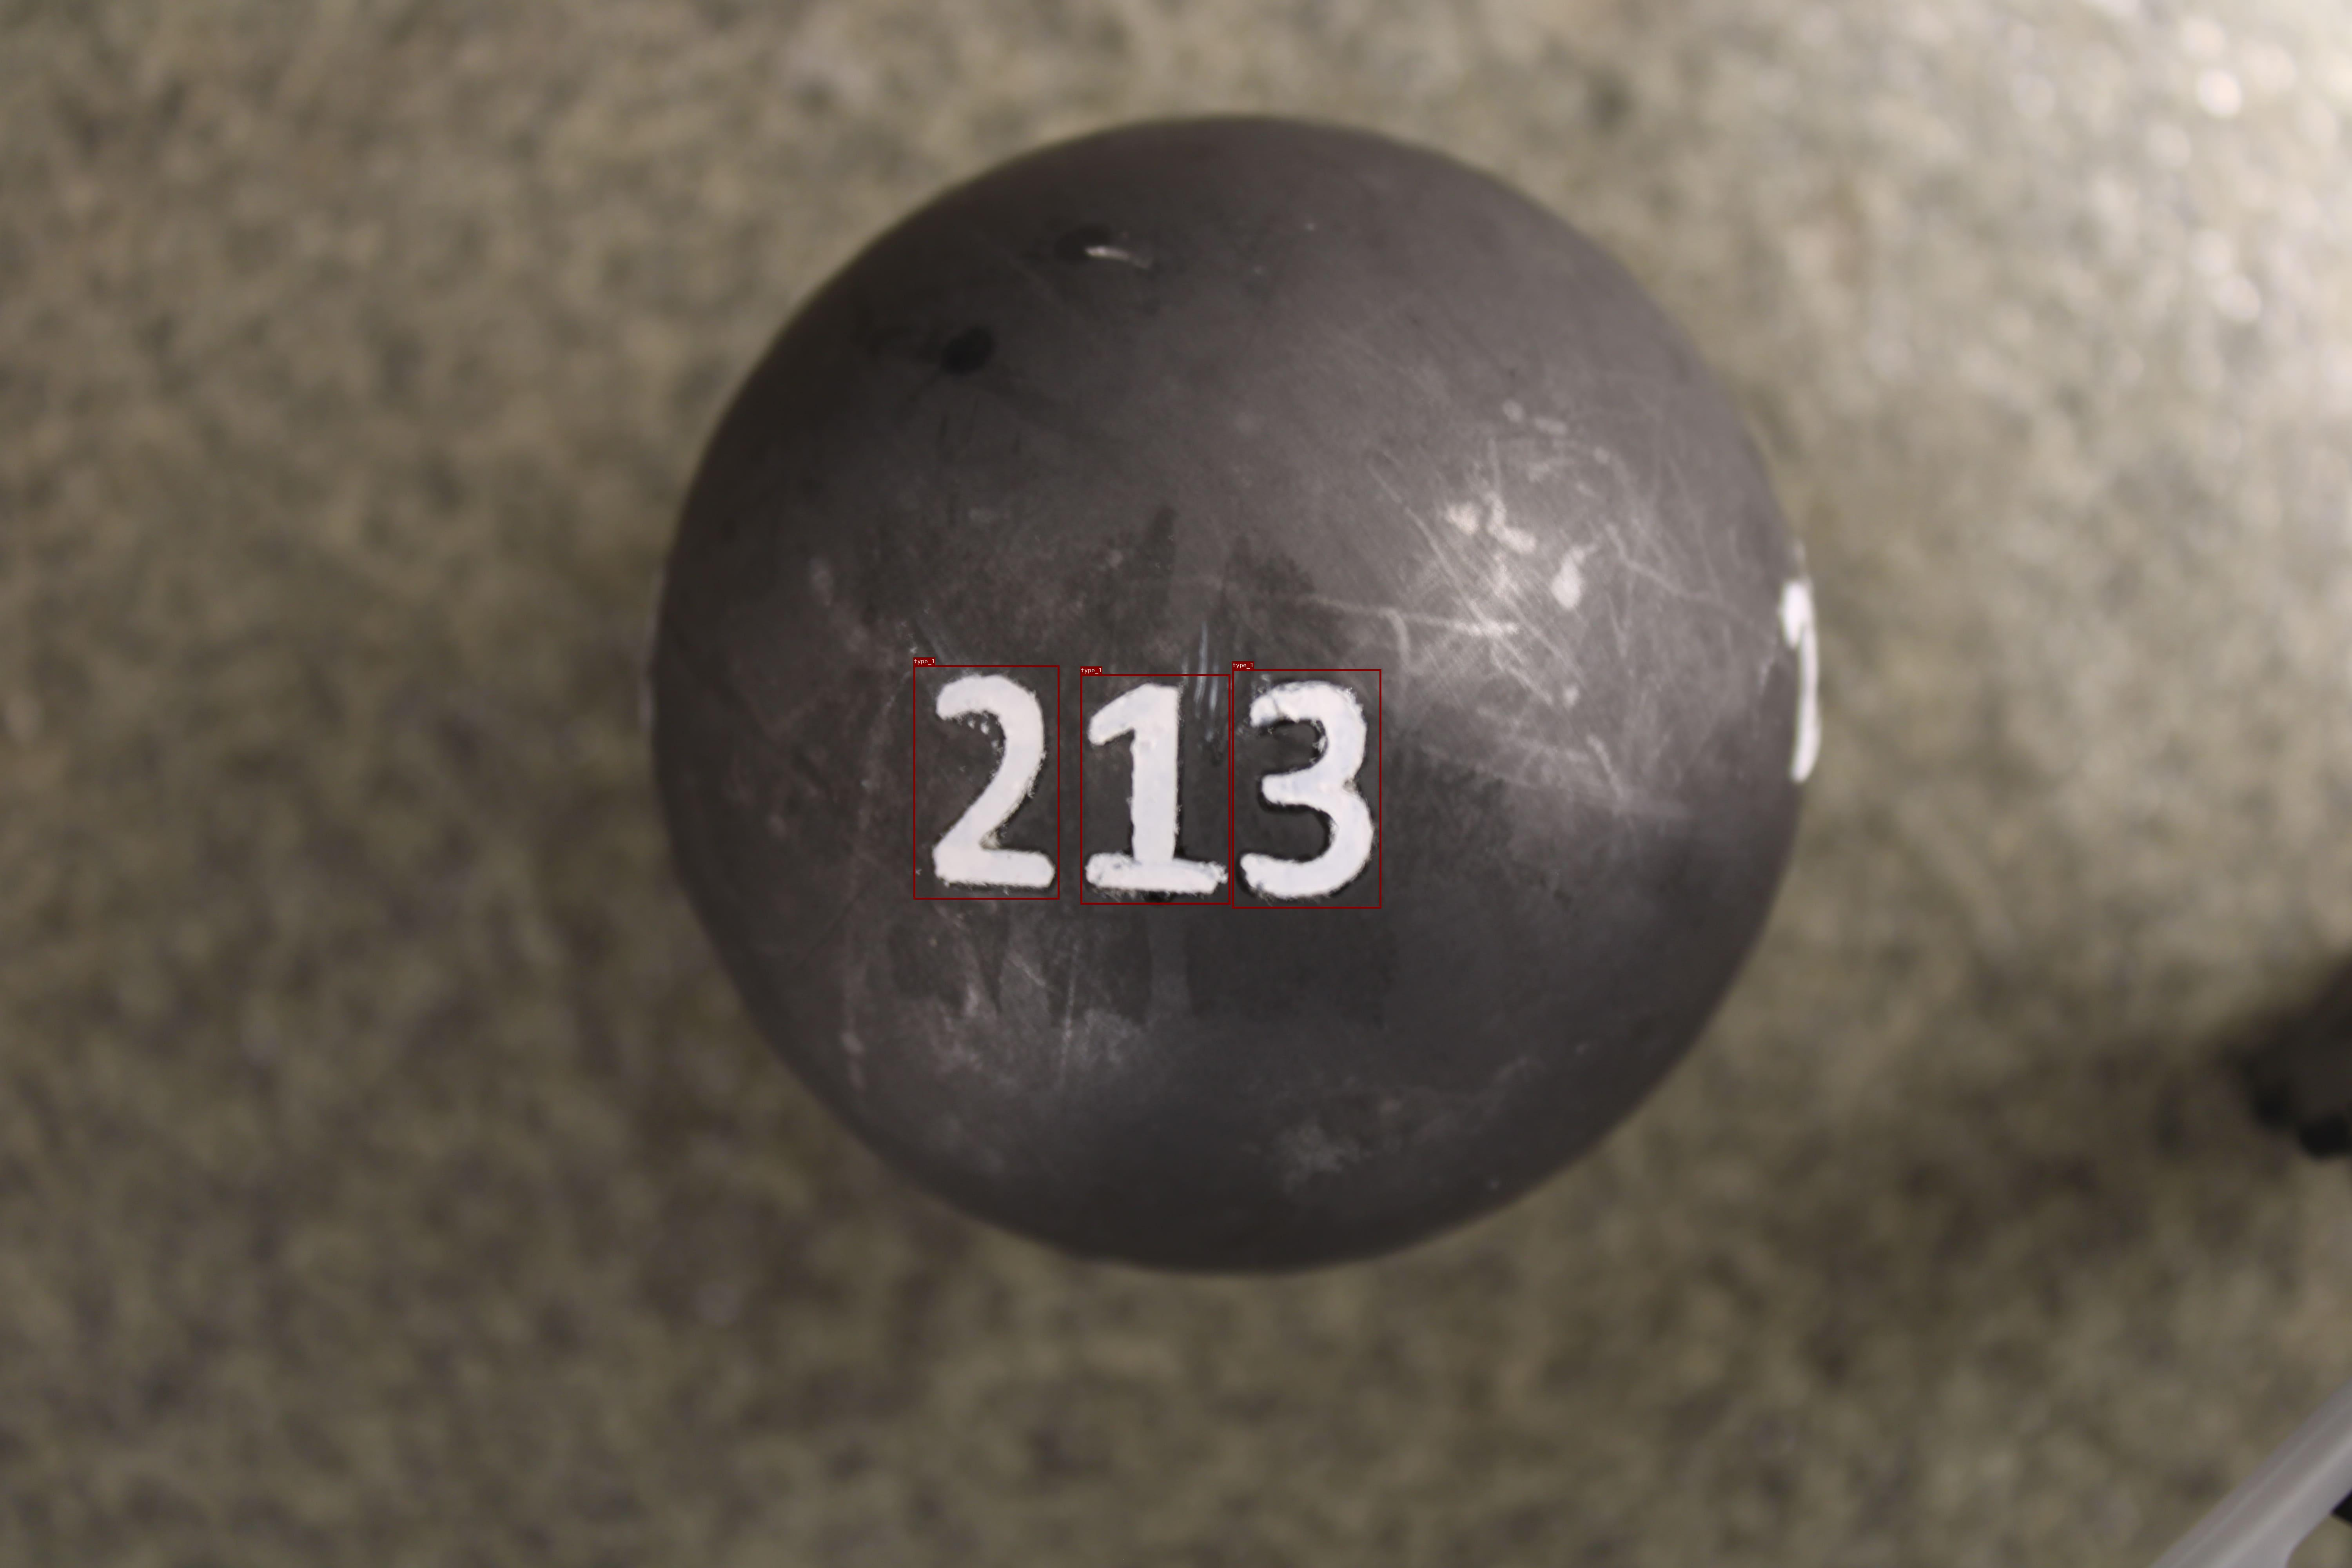type_1: (1232, 668, 1381, 908), (1080, 674, 1230, 905), (914, 665, 1059, 900)
